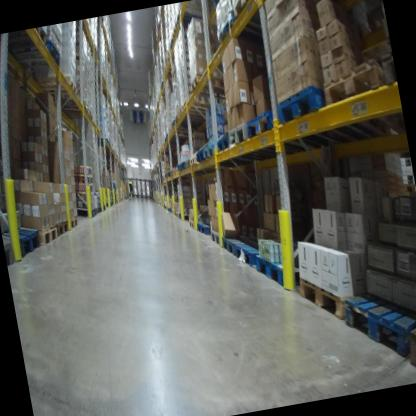pallet: (316, 49, 405, 147), (273, 73, 359, 158), (337, 283, 416, 367), (291, 260, 381, 331), (243, 99, 337, 164), (249, 242, 316, 299), (213, 3, 270, 48), (0, 36, 61, 78), (378, 44, 406, 135), (224, 117, 276, 161), (3, 214, 44, 265), (232, 0, 282, 41), (214, 126, 256, 171), (18, 213, 63, 255), (35, 69, 79, 102), (50, 93, 94, 125), (232, 237, 272, 272), (188, 66, 226, 100), (0, 26, 51, 48), (219, 230, 256, 260), (402, 316, 416, 381), (0, 224, 20, 269), (175, 99, 209, 122), (179, 94, 212, 113), (53, 214, 74, 241), (194, 146, 215, 170), (202, 143, 223, 166), (187, 151, 208, 173), (194, 216, 215, 238), (207, 227, 225, 250), (186, 216, 202, 234), (176, 207, 193, 222), (67, 213, 81, 231), (183, 156, 193, 172), (179, 157, 186, 173), (176, 161, 182, 174)
